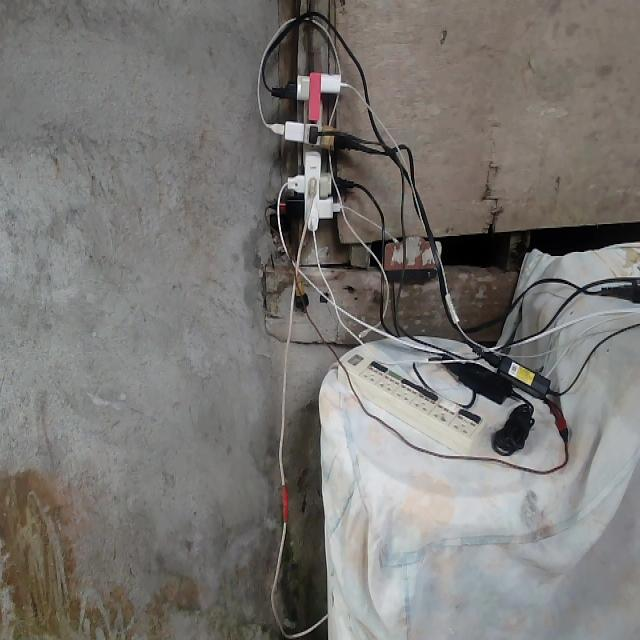-: (274, 72, 350, 233)
